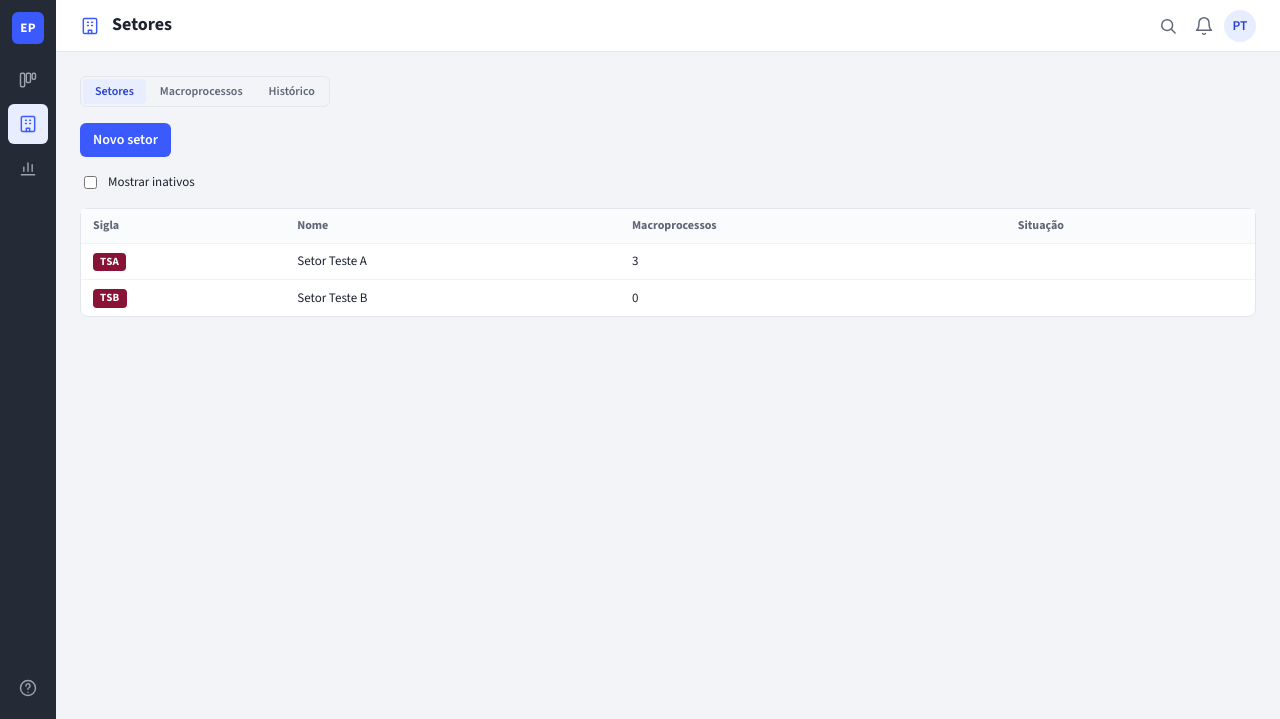
it: lista código, nome e observação dos macroprocessos do setor, na ordem da lista de macroprocessos
Click the cell "Setor Teste A".
click(453, 262)  # box x1=285 y1=244 x2=620 y2=280
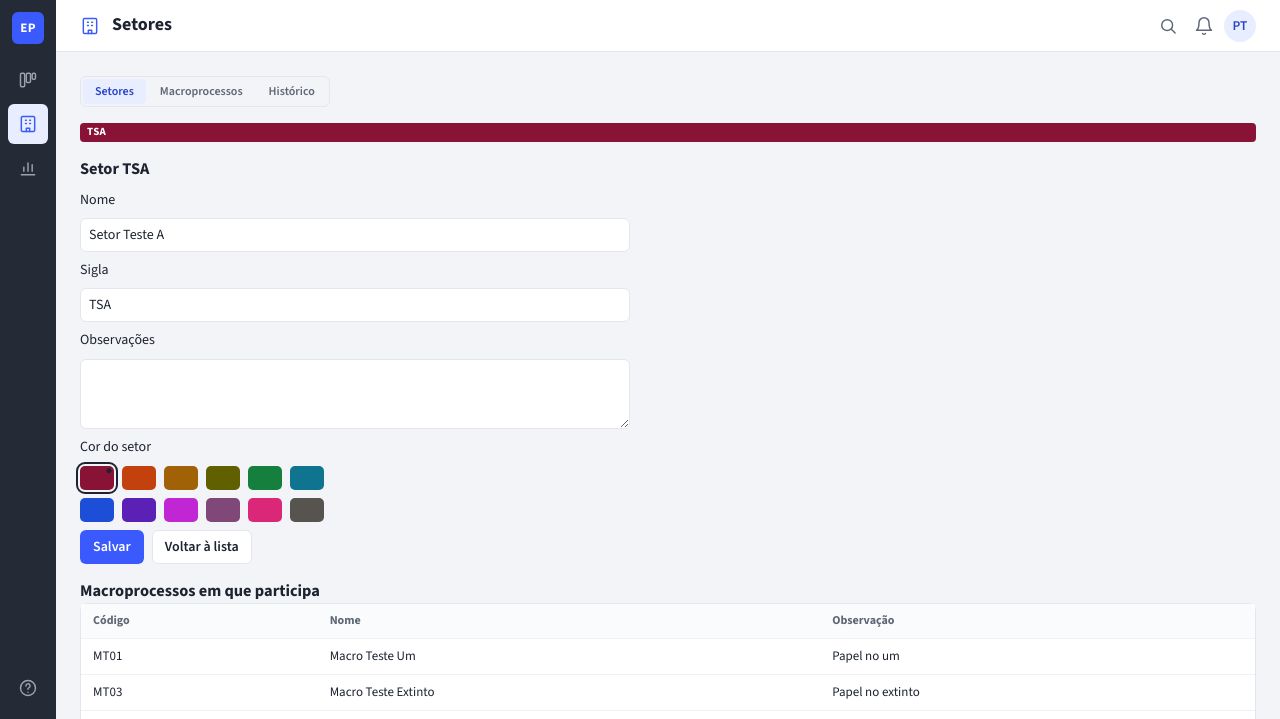
Result: the column headings read "Código", "Nome", "Observação", in this order at x1=81 y1=604 x2=318 y2=639; x1=318 y1=604 x2=820 y2=639; x1=820 y1=604 x2=1255 y2=639
